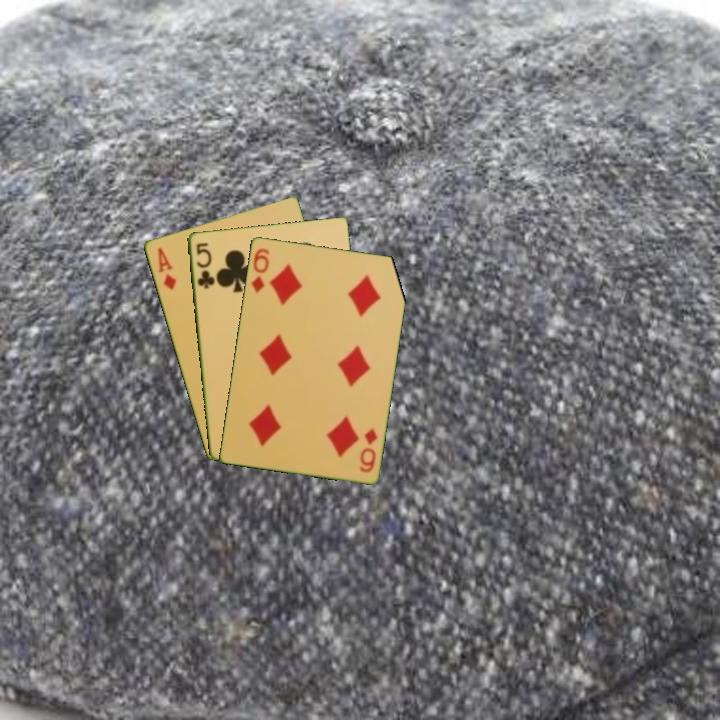5c: (192, 239, 217, 291)
6d: (247, 245, 272, 295), (356, 424, 380, 475)
Ad: (154, 244, 179, 292)
